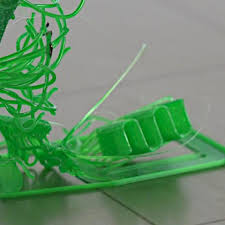fail: (1, 1, 78, 197), (68, 31, 155, 137), (49, 131, 210, 179)
